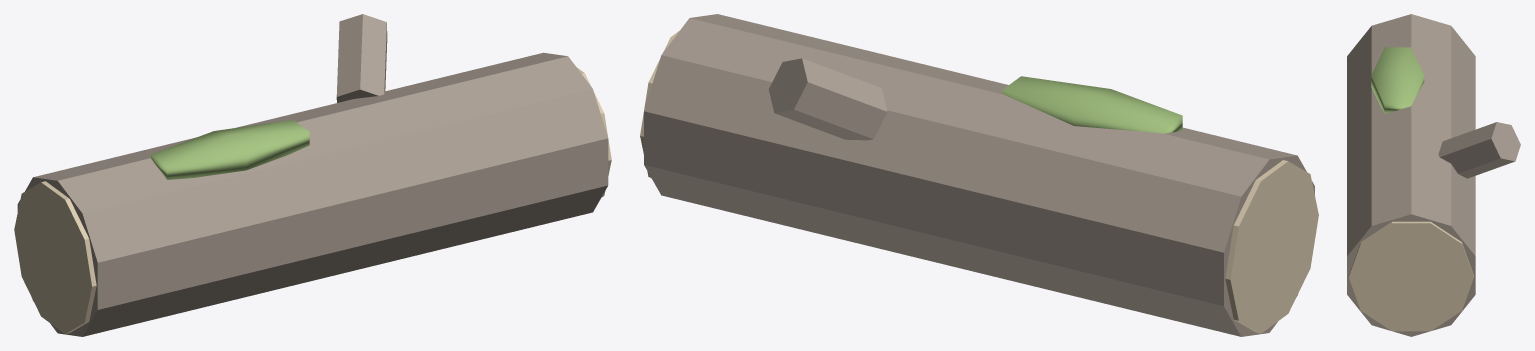
The model's file is gourd-prop-log.glb.
The picture shows the model from 3 angles, left to right: view 1: azimuth 30°, elevation 25°; view 2: azimuth 150°, elevation 25°; view 3: azimuth 270°, elevation 25°; orthographic projection. The views are drawn at different scales.
Parts seen in each view (by area): view 1: trunk, end-1, moss, stub; view 2: trunk, end-1, stub, moss; view 3: trunk, end1, stub, moss.
Boxes of the visible parts, box(x1,y1,x2,y2) form: trunk: box(17, 52, 608, 336); end-1: box(14, 181, 96, 333); moss: box(151, 120, 309, 179); stub: box(336, 14, 387, 102); trunk: box(644, 14, 1314, 336); end-1: box(1225, 160, 1318, 333); stub: box(768, 58, 887, 140); moss: box(1002, 76, 1182, 133); trunk: box(1347, 14, 1475, 336); end1: box(1348, 221, 1473, 331); stub: box(1438, 122, 1520, 178); moss: box(1371, 47, 1424, 113).
Size of the model in its own units: 0.1425 by 0.0506 by 0.0514.
